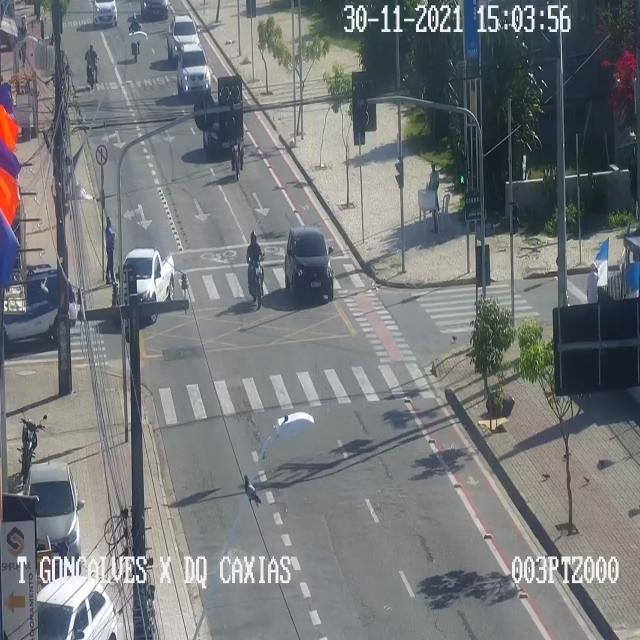Car: (26, 463, 80, 572), (36, 575, 116, 639), (116, 247, 174, 319), (284, 228, 332, 294), (178, 42, 210, 92), (203, 101, 233, 148), (167, 15, 199, 57), (142, 0, 168, 20), (94, 2, 117, 22)
Motorcycle: (248, 230, 264, 308), (22, 418, 36, 484), (231, 122, 242, 178), (86, 43, 98, 88), (129, 15, 140, 60)
